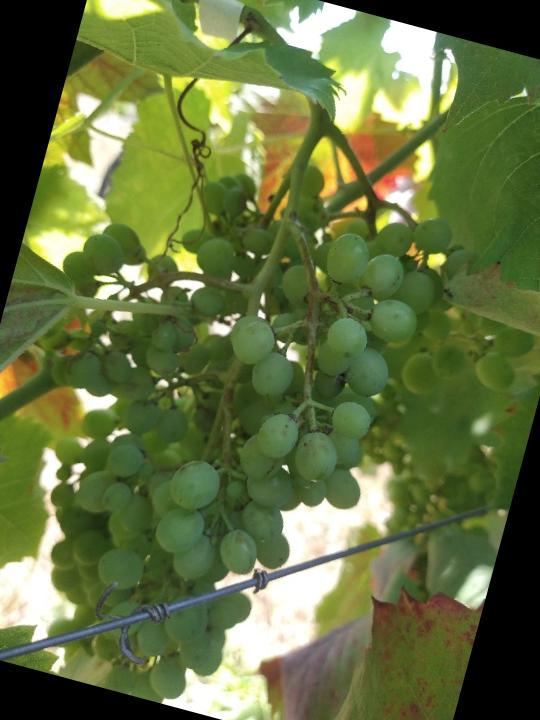grape: (0, 106, 540, 720)
